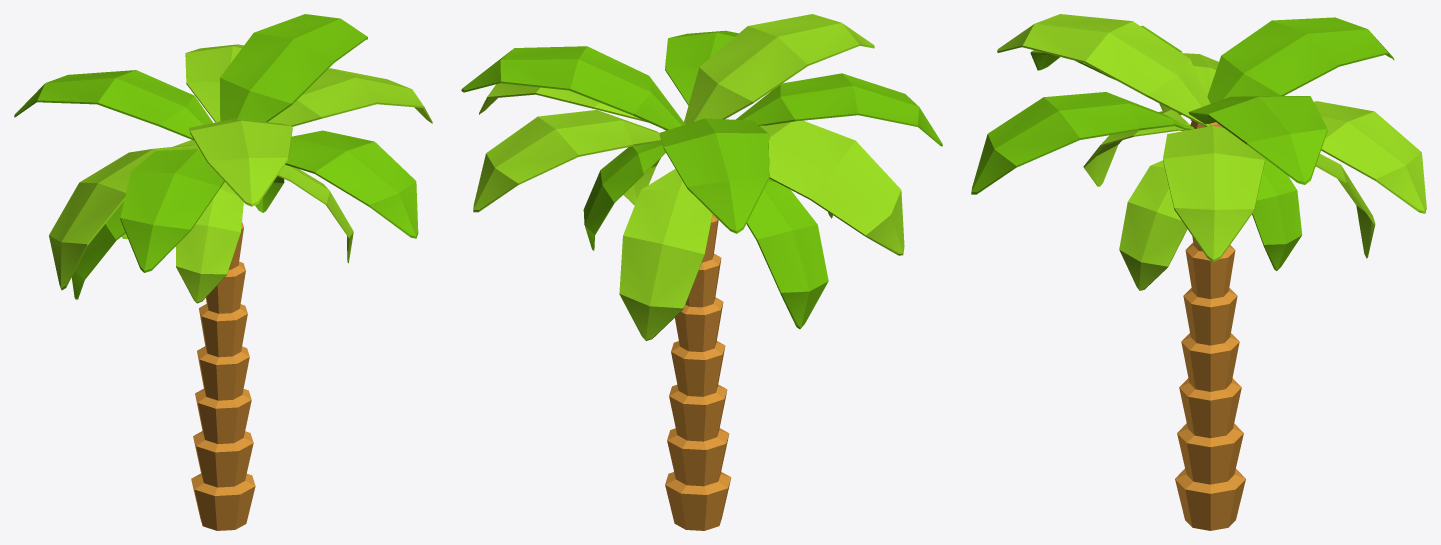
Rendered from Tree_08_Spring.fbx.
3 views of the same model, side by side, from view 1: azimuth 30°, elevation 25°; view 2: azimuth 150°, elevation 25°; view 3: azimuth 270°, elevation 25° (orthographic). The views are drawn at different scales.
Visible parts, largest first — view 1: Tree_08_p2_Spring, Tree_08_p1_Spring; view 2: Tree_08_p2_Spring, Tree_08_p1_Spring; view 3: Tree_08_p2_Spring, Tree_08_p1_Spring.
Boxes of the visible parts, x1,y1,x2,y2 form: Tree_08_p2_Spring: (14,14,432,303); Tree_08_p1_Spring: (191,221,255,530); Tree_08_p2_Spring: (461,14,942,340); Tree_08_p1_Spring: (665,214,731,530); Tree_08_p2_Spring: (971,14,1426,290); Tree_08_p1_Spring: (1175,120,1245,530).
Size of the model in its own units: 352 by 380 by 333.
